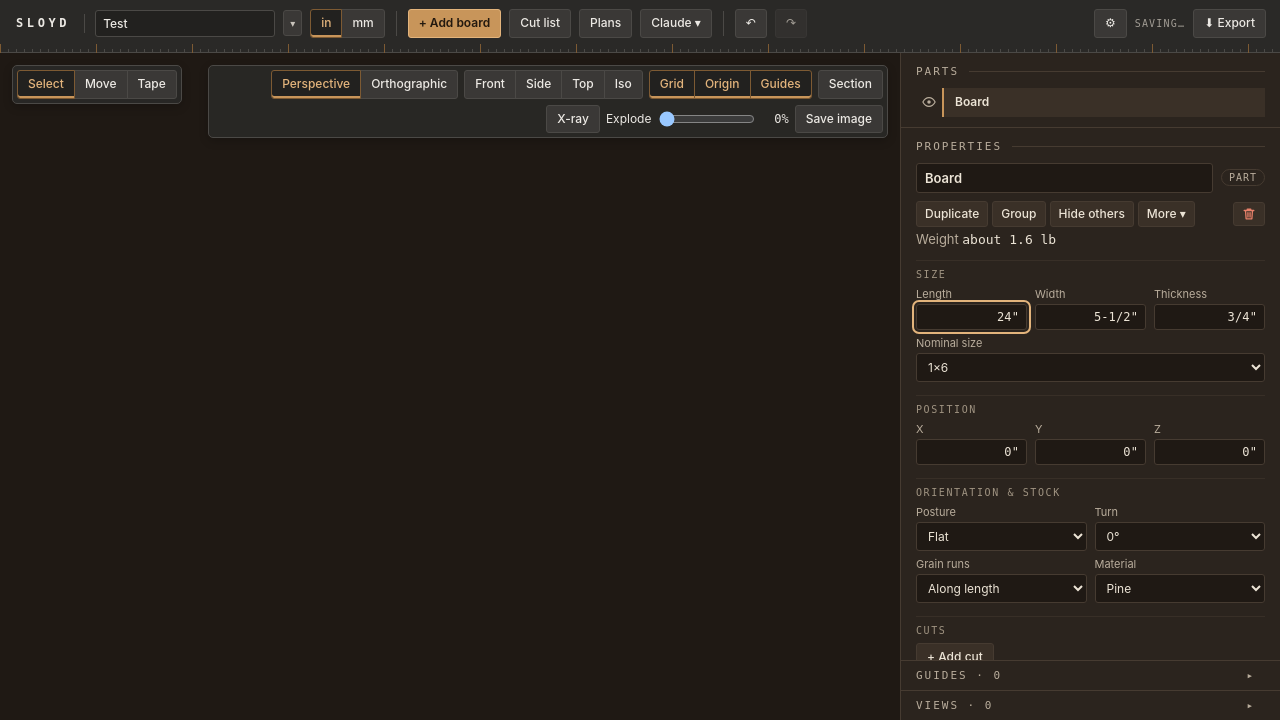
App keyboard delete › Labels… in the cut list swaps it for the Labels sheet, and closing Labels brings the cut list back (part labels spec §4.1)
This screenshot has width=1280, height=720.
Click the button "Board" at (972, 101), box [942, 88, 1265, 117]
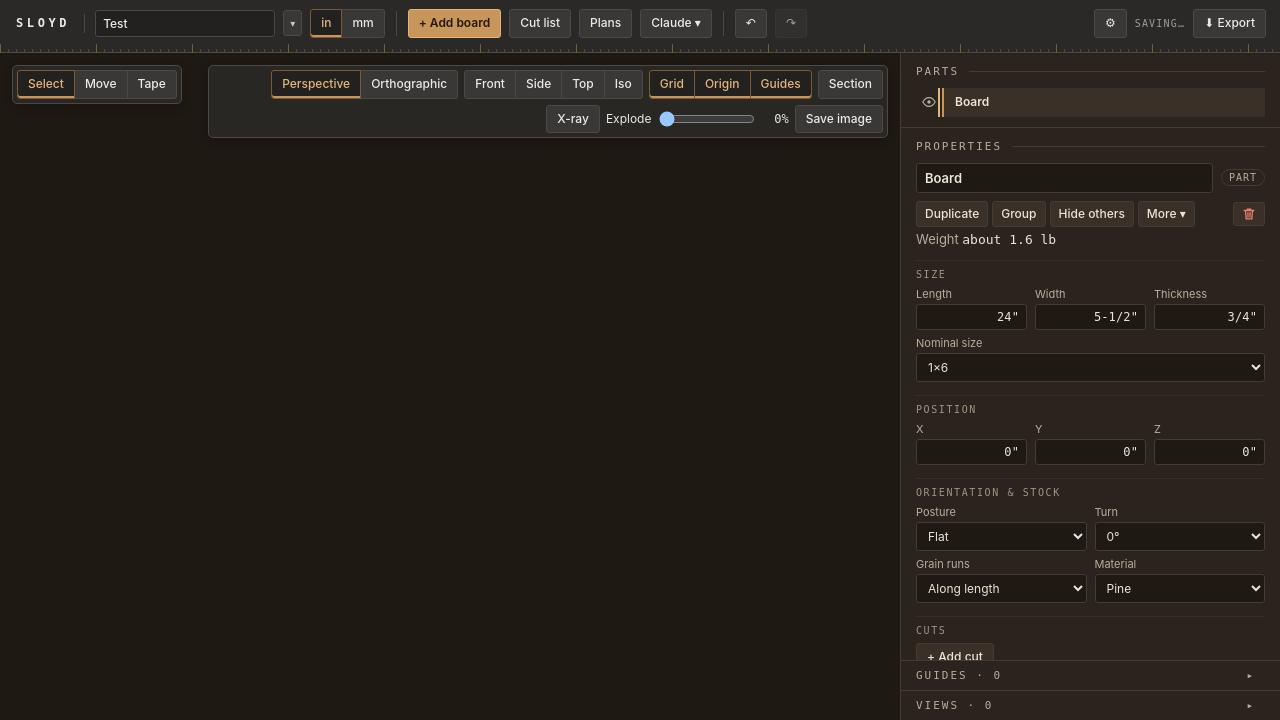
Click the button "Cut list" at (540, 23), box [509, 9, 571, 38]
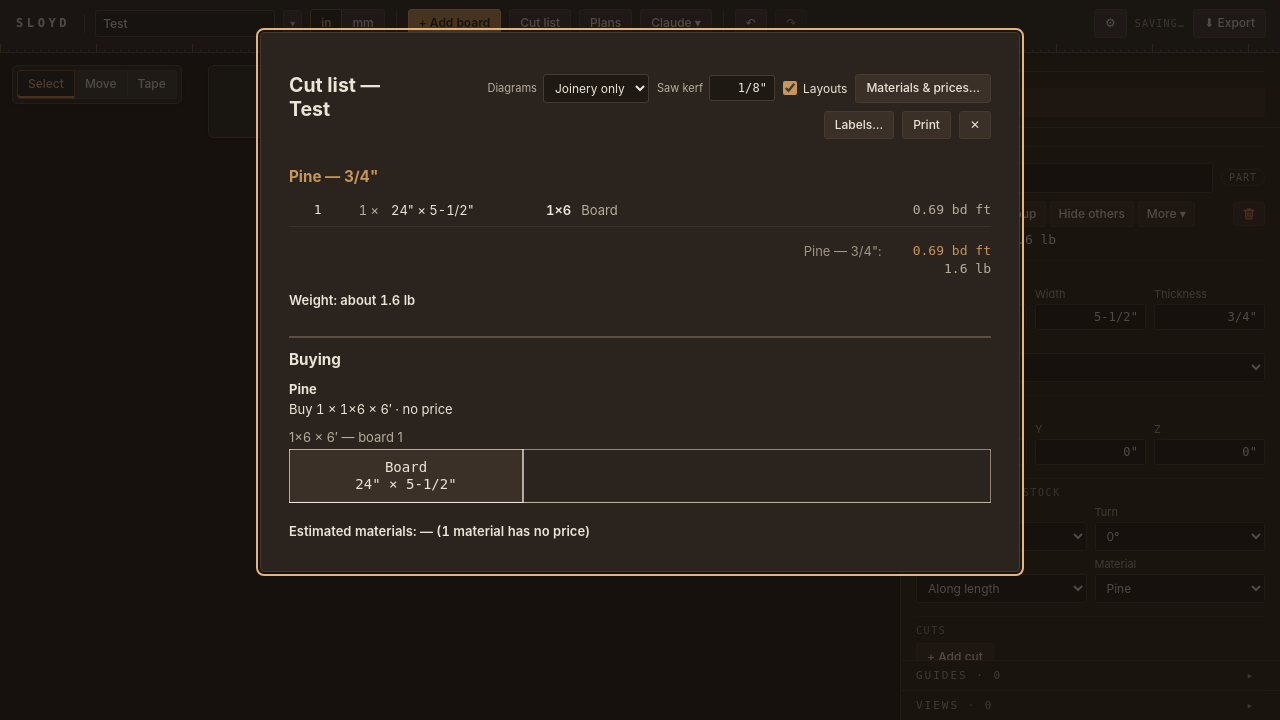
Click the button "Labels…" at (859, 125), box [824, 111, 894, 140]
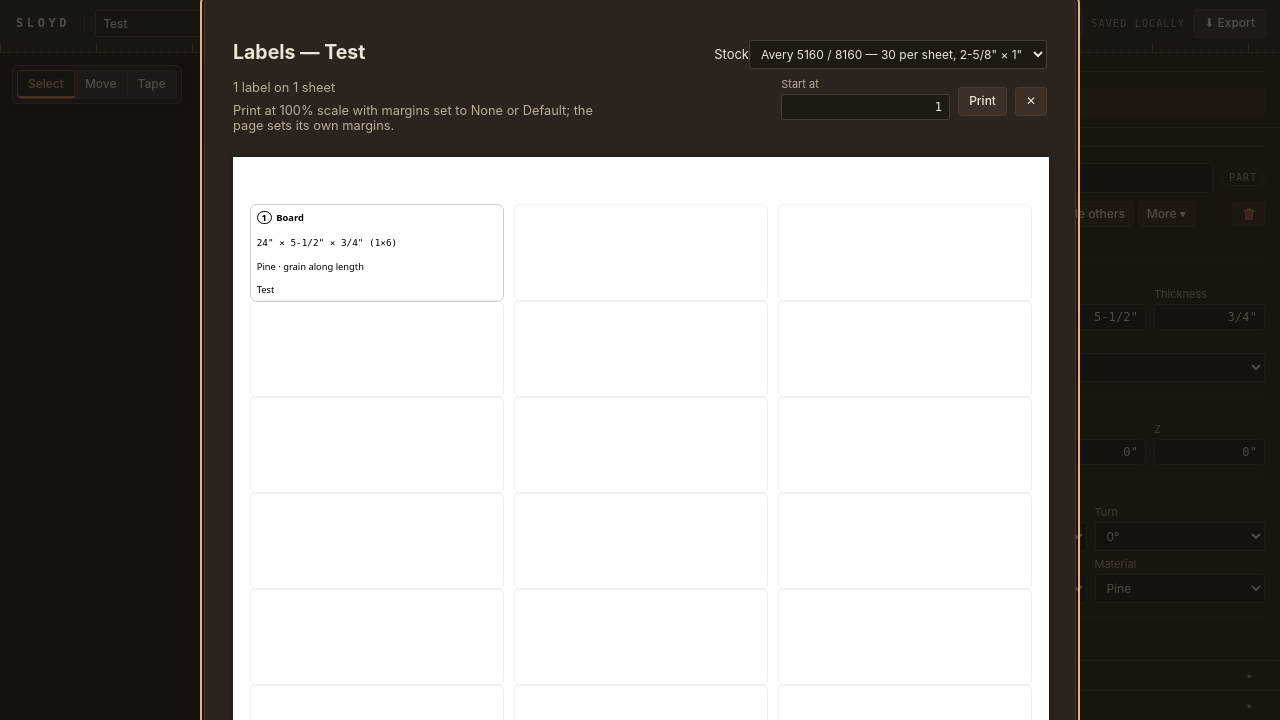
Expected: the dialog "Labels" is shown
Click the button named "Close labels" at (1031, 102), box [1015, 87, 1047, 116]
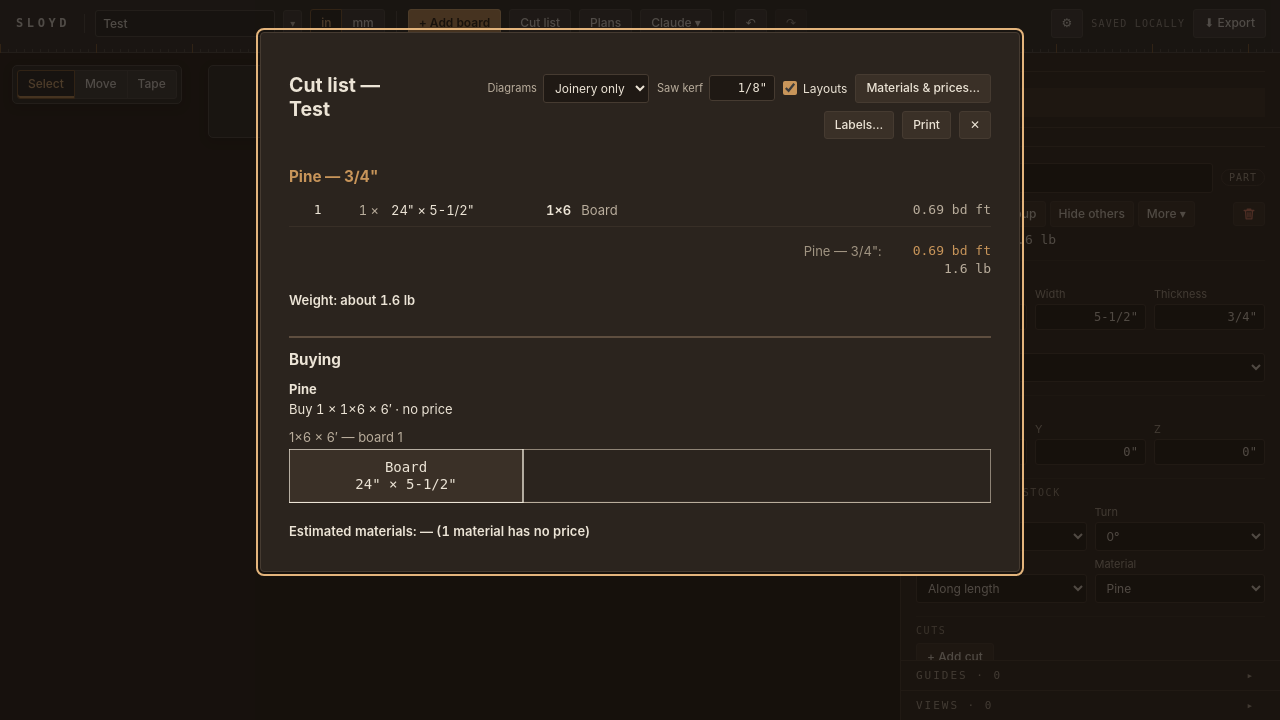
Expected: the dialog "Cut list" is shown
